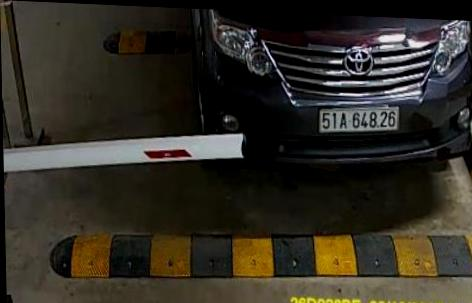License_Plate: (314, 105, 404, 136)
